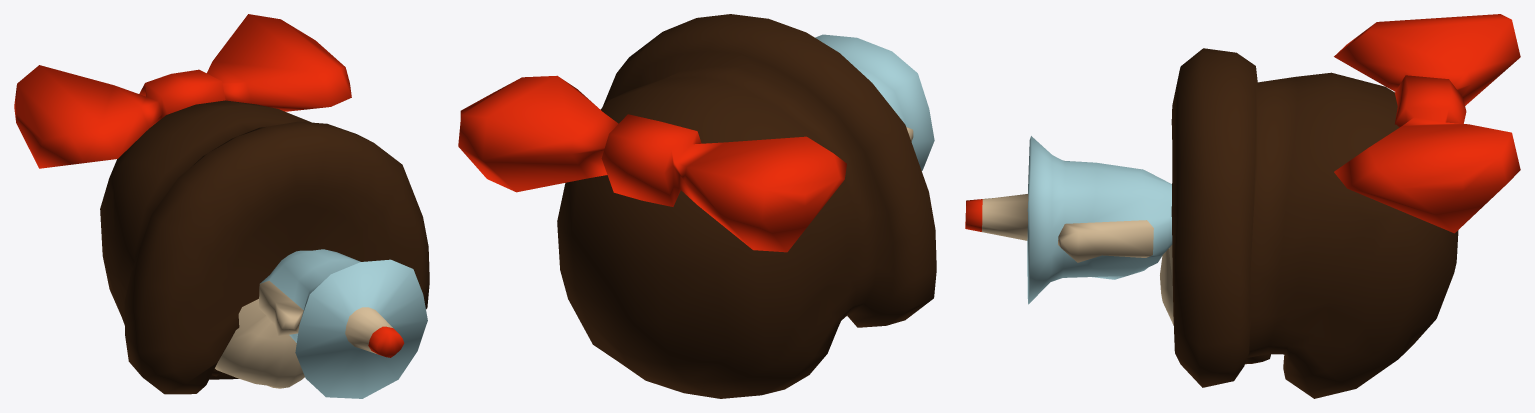
The model's file is girl.fbx.
3 views of the same model, side by side, from view 1: azimuth 30°, elevation 25°; view 2: azimuth 150°, elevation 25°; view 3: azimuth 270°, elevation 25° (orthographic). The views are drawn at different scales.
Visible parts, largest first — view 1: Cube_009; view 2: Cube_009; view 3: Cube_009.
Boxes of the visible parts, x1,y1,x2,y2 form: Cube_009: (14,14,429,398); Cube_009: (458,14,936,398); Cube_009: (965,14,1520,398).
Bounding box in the file's own units: 2.39 × 2.11 × 3.43.
